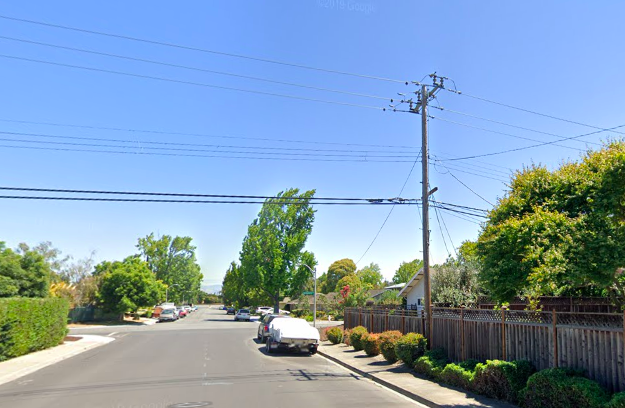tree: (239, 186, 318, 316)
utility_pole: (378, 60, 467, 144)
